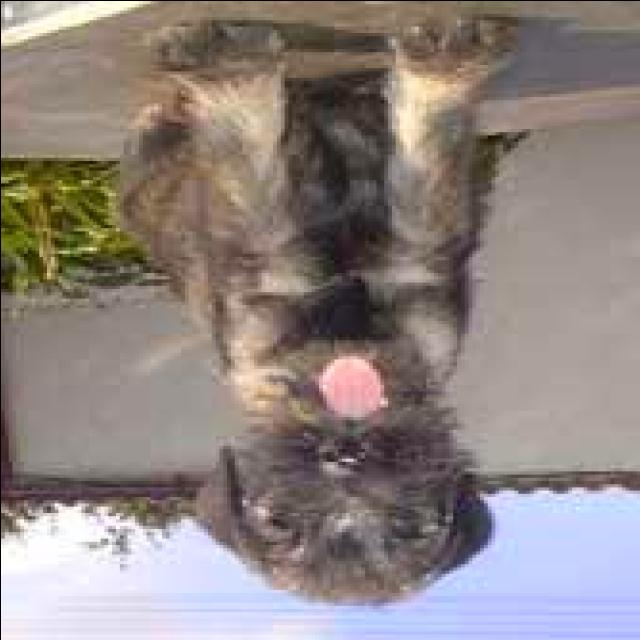standard_schnauzer: (119, 3, 518, 605)
